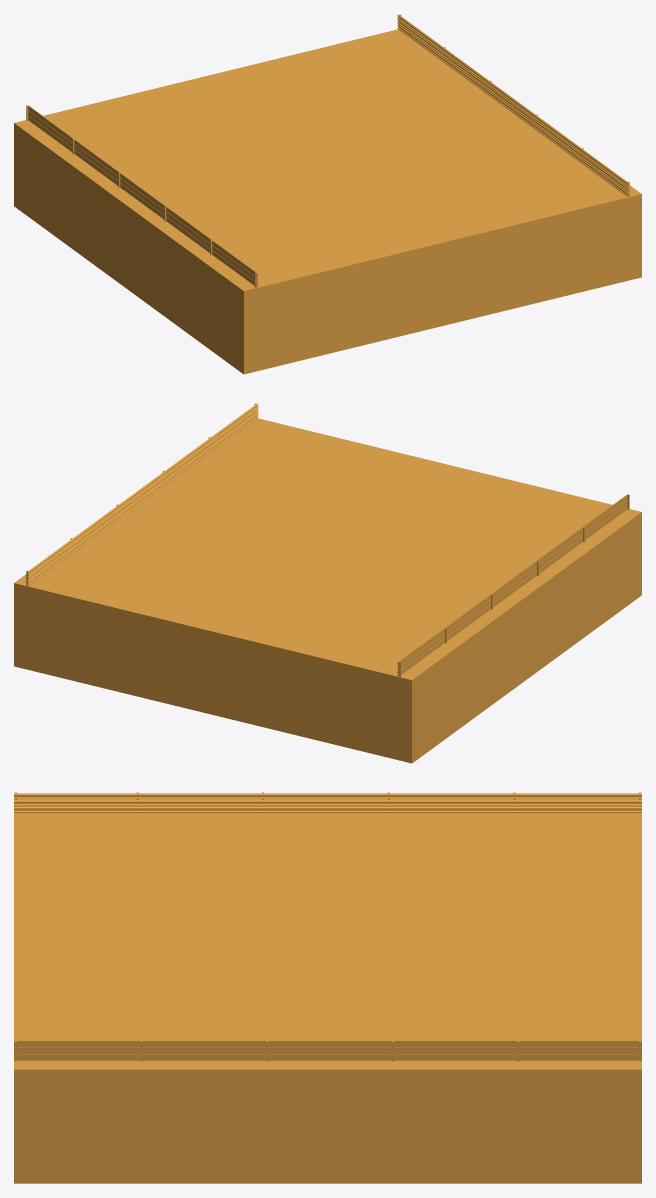
Rendered from tile-race-track-straight-curbs-sand.fbx.
3 views of the same model, one above another, from view 1: azimuth 30°, elevation 25°; view 2: azimuth 150°, elevation 25°; view 3: azimuth 270°, elevation 25° (orthographic). The views are drawn at different scales.
Visible parts, largest first — view 1: tile-race-track-straight-curbs-sand; view 2: tile-race-track-straight-curbs-sand; view 3: tile-race-track-straight-curbs-sand.
Boxes of the visible parts, box(x1,y1,x2,y2) form: tile-race-track-straight-curbs-sand: box(14, 14, 641, 374); tile-race-track-straight-curbs-sand: box(14, 403, 641, 763); tile-race-track-straight-curbs-sand: box(14, 792, 641, 1183).
Size of the model in its own units: 30 by 7.05 by 30.
